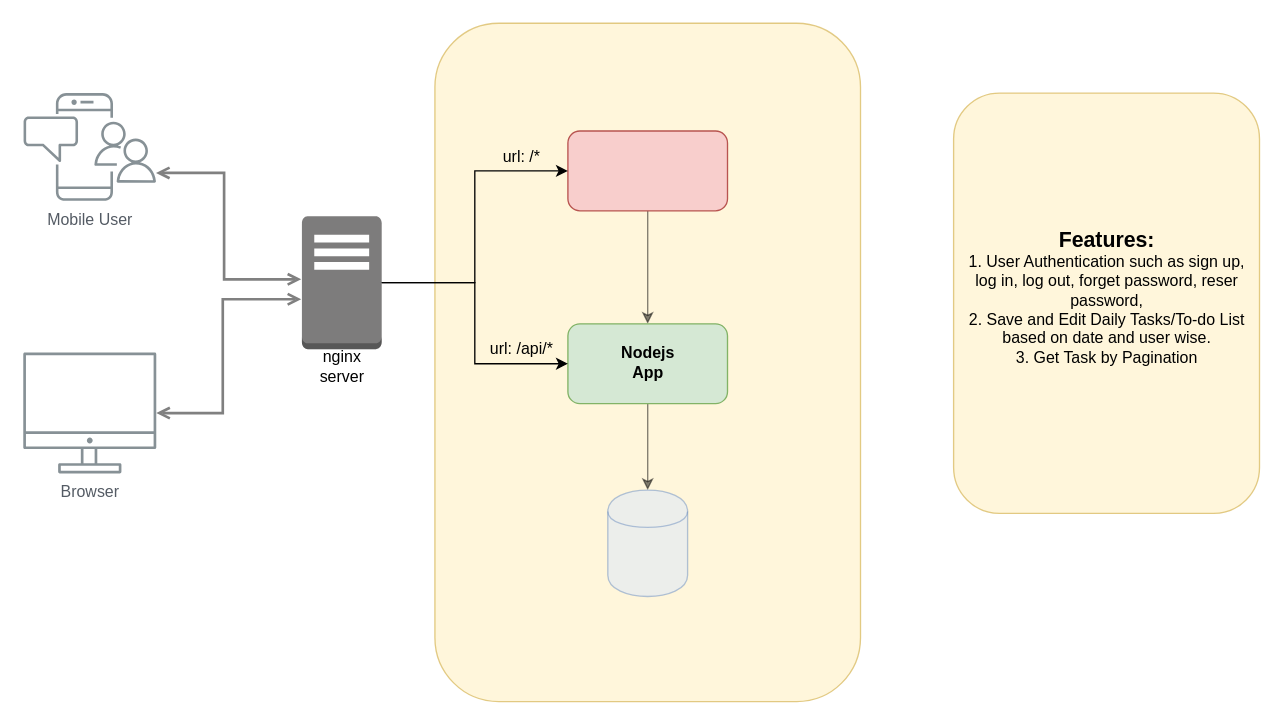
This 1282x725 diagram has some shape labels left out. The box of each missing label's shape, as (x1, y1, x2, y2) in pixels:
Angular App: (567, 130, 728, 211)
MongoDb: (606, 489, 688, 597)
